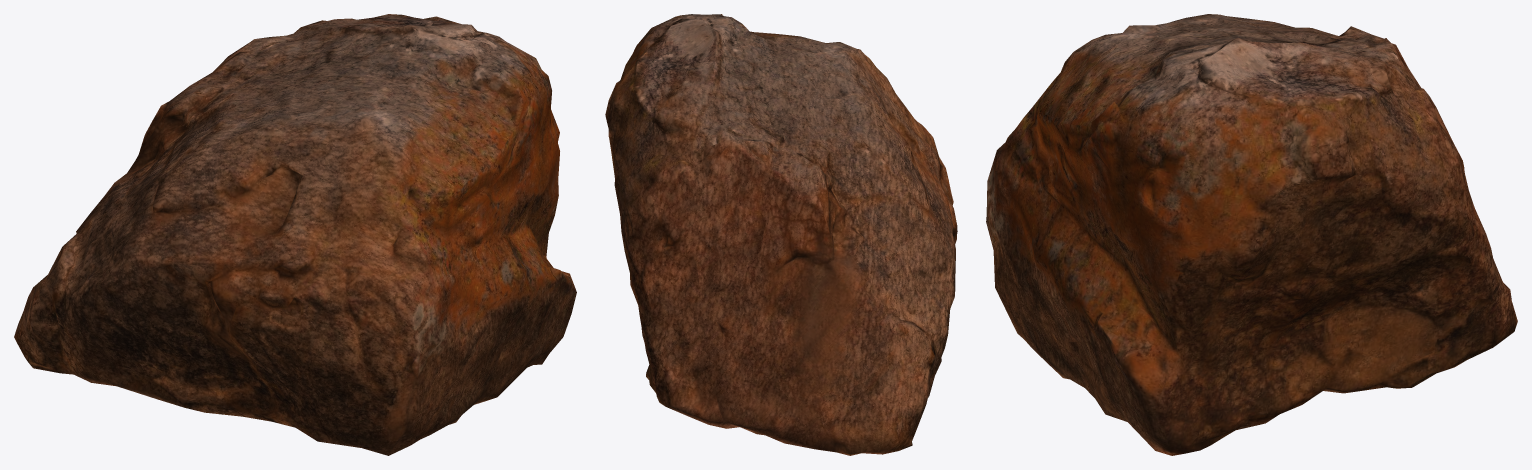
File: node_metal_2.glb
3 views of the same model, side by side, from view 1: azimuth 30°, elevation 25°; view 2: azimuth 150°, elevation 25°; view 3: azimuth 270°, elevation 25° (orthographic). The views are drawn at different scales.
Parts seen in each view (by area): view 1: boulder_04; view 2: boulder_04; view 3: boulder_04.
Boxes of the visible parts, x1=… form: boulder_04: x1=14, y1=14, x2=576, y2=455; boulder_04: x1=605, y1=14, x2=957, y2=455; boulder_04: x1=986, y1=14, x2=1517, y2=455.
Bounding box in the file's own units: 2.12 × 1.6 × 2.1.
Materials: 1 (1 with a texture image).
